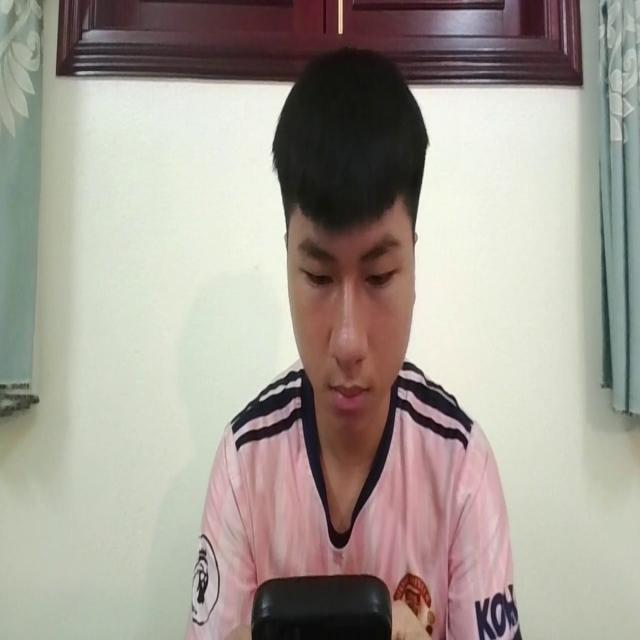phone: (251, 570, 390, 640)
student: (179, 33, 519, 640)
